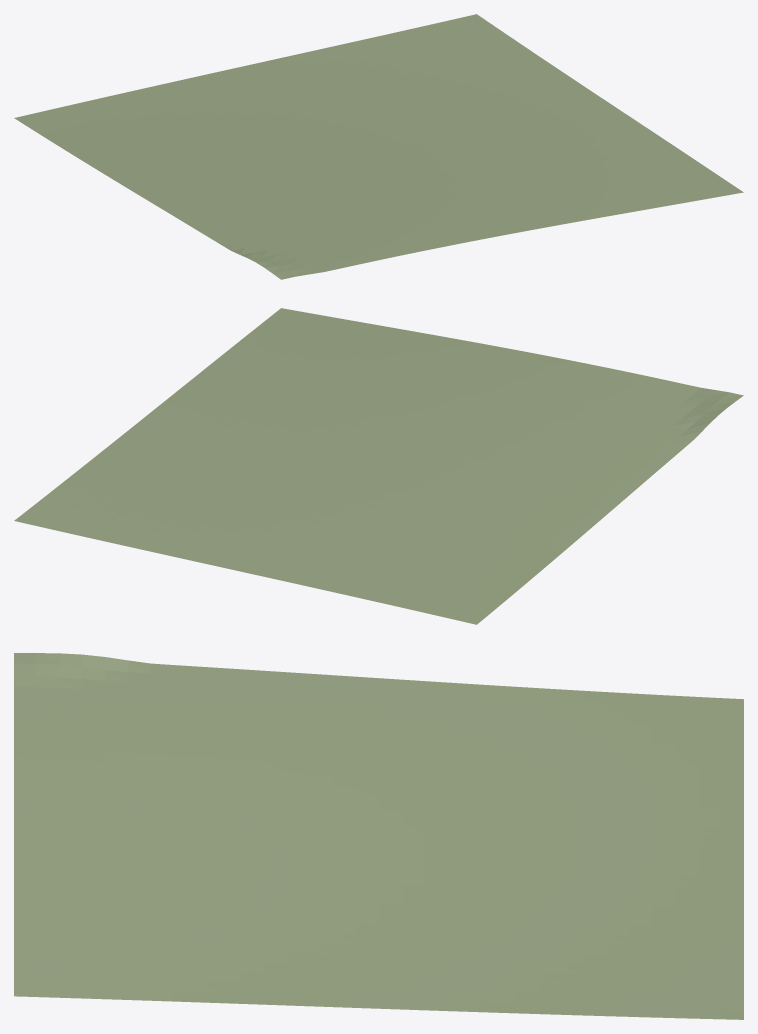
The model's file is lunar-5-3.glb.
3 renders of one model, top to bottom at view 1: azimuth 30°, elevation 25°; view 2: azimuth 150°, elevation 25°; view 3: azimuth 270°, elevation 25°, orthographic. The views are drawn at different scales.
Parts seen in each view (by area): view 1: lunar-5-3; view 2: lunar-5-3; view 3: lunar-5-3.
Boxes of the visible parts, x1,y1,x2,y2 form: lunar-5-3: (14, 14, 743, 279); lunar-5-3: (14, 308, 743, 624); lunar-5-3: (14, 653, 743, 1019).
Size of the model in its own units: 128 by 11.3 by 128.
